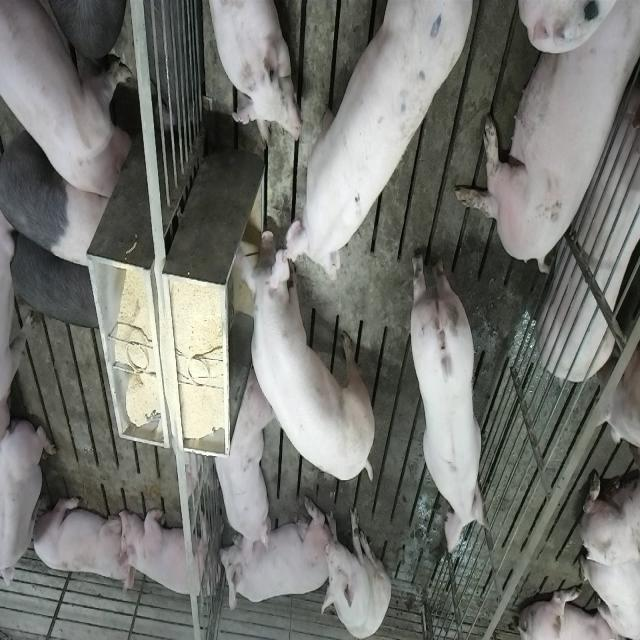Lateral_lying: (453, 4, 635, 278), (537, 73, 640, 403)
Sitting: (321, 503, 391, 638)
Standing: (282, 5, 476, 287), (237, 225, 377, 480), (2, 0, 136, 204), (408, 244, 489, 554), (2, 109, 112, 268), (12, 228, 105, 336)
Sternal_lying: (203, 0, 297, 146), (218, 502, 328, 616), (210, 368, 270, 556), (2, 416, 56, 600), (118, 502, 214, 602), (31, 492, 130, 588)
